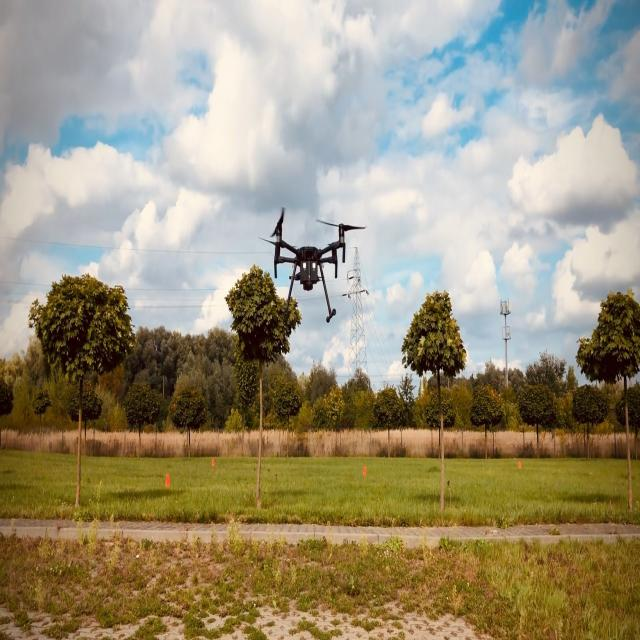drone: (258, 205, 366, 324)
